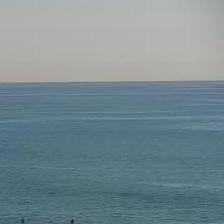surfer: (70, 218, 75, 224), (21, 219, 25, 223)
